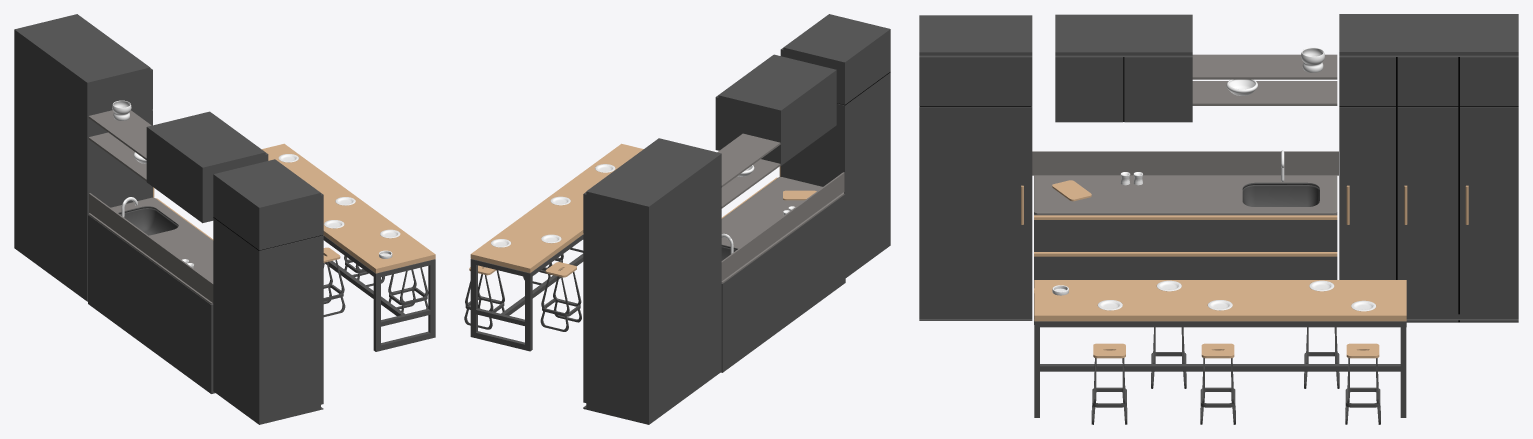
Rendered from kitchen.fbx.
3 renders of one model, left to right at view 1: azimuth 30°, elevation 25°; view 2: azimuth 150°, elevation 25°; view 3: azimuth 270°, elevation 25°, orthographic. The views are drawn at different scales.
Parts seen in each view (by area): view 1: fridge, cupboard_big, cupboard_down, Cube.001, cupboard_up, board, shelf_up, shelf_down, chair, chair.003; view 2: cupboard_big, fridge, cupboard_down, cupboard_up, Cube.001, board, shelf_up, chair.004, shelf_down, chair.002; view 3: cupboard_big, fridge, cupboard_down, Cube.001, cupboard_up, board, shelf_up, shelf_down, chair, chair.002, chair.001.
Boxes of the visible parts, x1=… form: fridge: x1=213, y1=159, x2=323, y2=424; cupboard_big: x1=14, y1=14, x2=152, y2=301; cupboard_down: x1=88, y1=197, x2=215, y2=393; Cube.001: x1=262, y1=143, x2=435, y2=351; cupboard_up: x1=146, y1=111, x2=268, y2=223; board: x1=89, y1=193, x2=213, y2=303; shelf_up: x1=88, y1=110, x2=151, y2=159; shelf_down: x1=88, y1=132, x2=146, y2=181; chair: x1=388, y1=267, x2=428, y2=312; chair.003: x1=323, y1=247, x2=345, y2=316; cupboard_big: x1=583, y1=138, x2=721, y2=424; fridge: x1=780, y1=14, x2=890, y2=277; cupboard_down: x1=721, y1=177, x2=845, y2=372; cupboard_up: x1=715, y1=54, x2=836, y2=165; Cube.001: x1=470, y1=143, x2=643, y2=351; board: x1=721, y1=172, x2=844, y2=280; shelf_up: x1=717, y1=133, x2=780, y2=187; chair.004: x1=540, y1=262, x2=581, y2=331; shelf_down: x1=721, y1=159, x2=780, y2=208; chair.002: x1=464, y1=265, x2=504, y2=329; cupboard_big: x1=1339, y1=14, x2=1518, y2=322; fridge: x1=919, y1=15, x2=1032, y2=320; cupboard_down: x1=1034, y1=175, x2=1337, y2=324; Cube.001: x1=1034, y1=280, x2=1406, y2=417; cupboard_up: x1=1055, y1=14, x2=1192, y2=122; board: x1=1032, y1=151, x2=1338, y2=175; shelf_up: x1=1192, y1=54, x2=1337, y2=79; shelf_down: x1=1192, y1=81, x2=1337, y2=105; chair: x1=1091, y1=343, x2=1127, y2=424; chair.002: x1=1345, y1=343, x2=1380, y2=424; chair.001: x1=1200, y1=343, x2=1235, y2=424.
Size of the model in its own units: 476 by 415 by 832.
